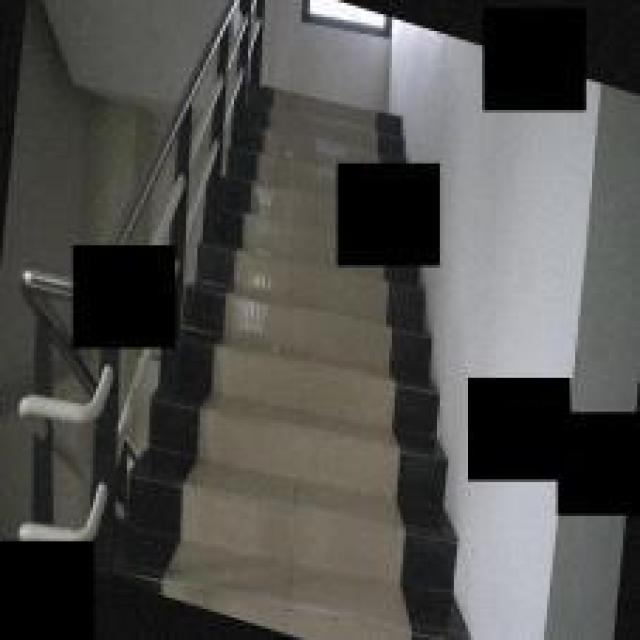upstair: (196, 277, 416, 613)
